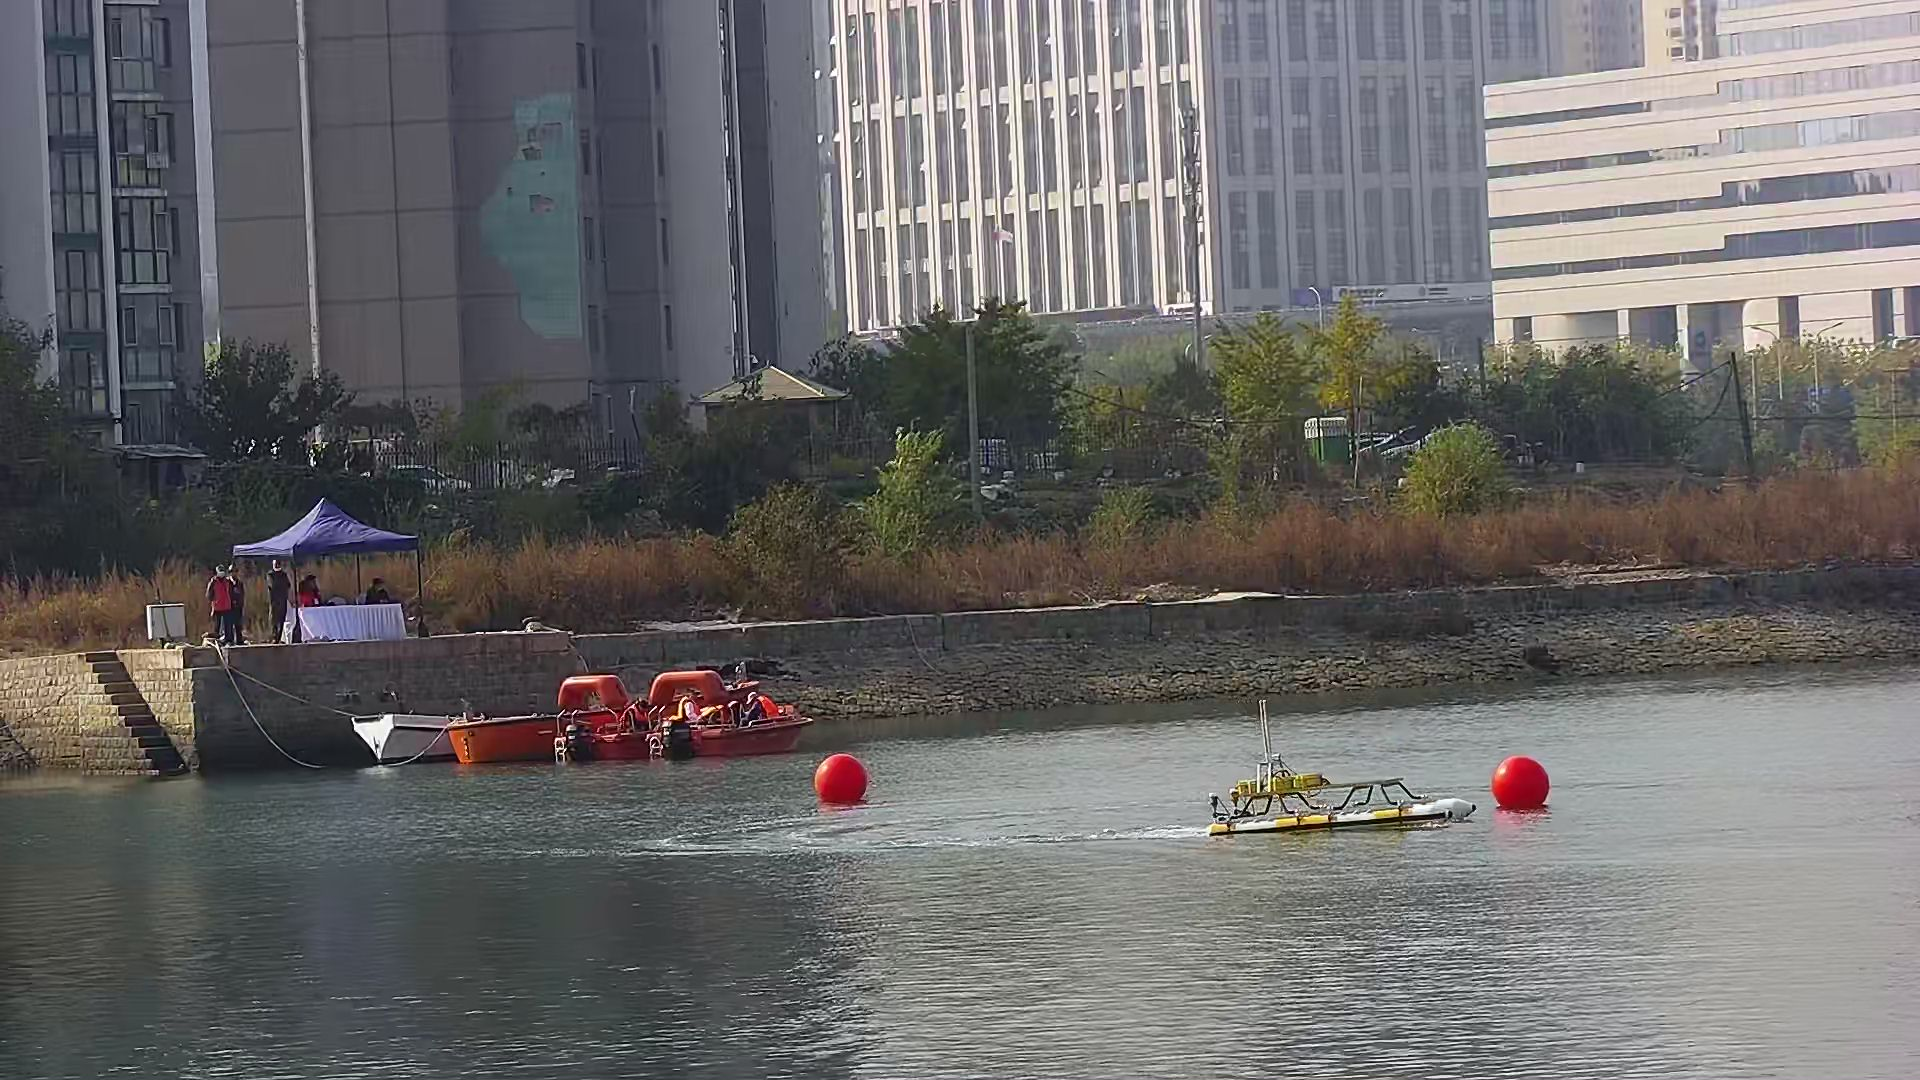ball: (1487, 752, 1549, 812), (812, 756, 868, 807)
boat: (1207, 748, 1477, 837), (574, 673, 814, 758), (455, 673, 645, 764), (349, 709, 463, 761)
